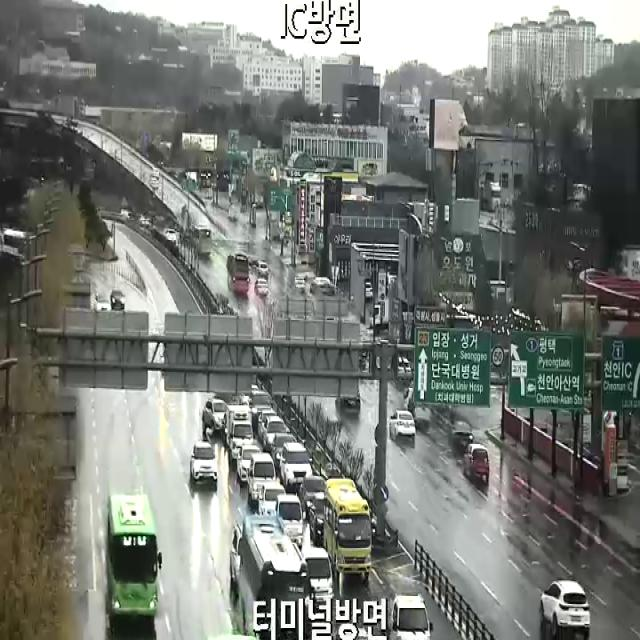Bus: (242, 513, 316, 640), (107, 493, 162, 618), (323, 478, 371, 577), (202, 398, 228, 434), (227, 254, 248, 292), (194, 225, 211, 254), (209, 633, 257, 640)
Car: (540, 580, 590, 637), (280, 444, 312, 487), (248, 455, 274, 503), (191, 442, 217, 481), (300, 477, 325, 516), (464, 444, 489, 479), (258, 484, 285, 516), (230, 524, 243, 588), (309, 492, 325, 544), (237, 445, 260, 481), (271, 434, 295, 466), (250, 392, 271, 426), (390, 410, 415, 438), (263, 416, 286, 446), (449, 421, 473, 449), (335, 390, 361, 412), (258, 411, 274, 438), (241, 384, 259, 404), (312, 280, 334, 295), (93, 294, 111, 312), (110, 290, 124, 308), (255, 279, 268, 294), (399, 357, 411, 372), (258, 260, 269, 276), (165, 229, 175, 243), (366, 282, 373, 300), (296, 277, 304, 292)
Truck: (384, 593, 433, 640), (302, 548, 337, 612), (268, 494, 306, 549), (227, 404, 253, 458), (404, 388, 429, 425), (370, 299, 389, 334)
